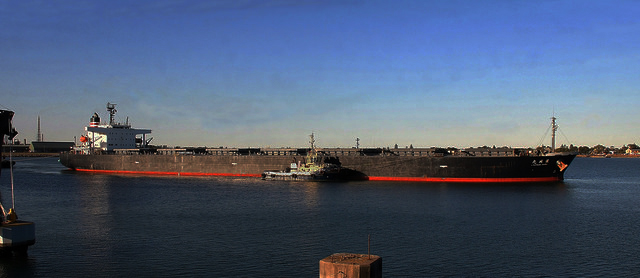bulk carrier: (61, 102, 582, 184)
tug_boat: (259, 130, 343, 181)
